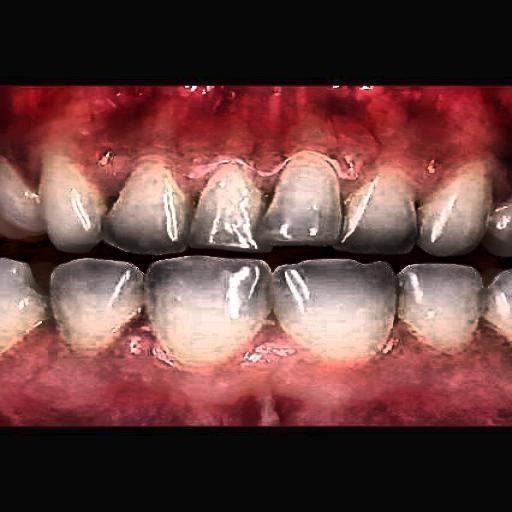Healthy: (12, 94, 487, 378)
